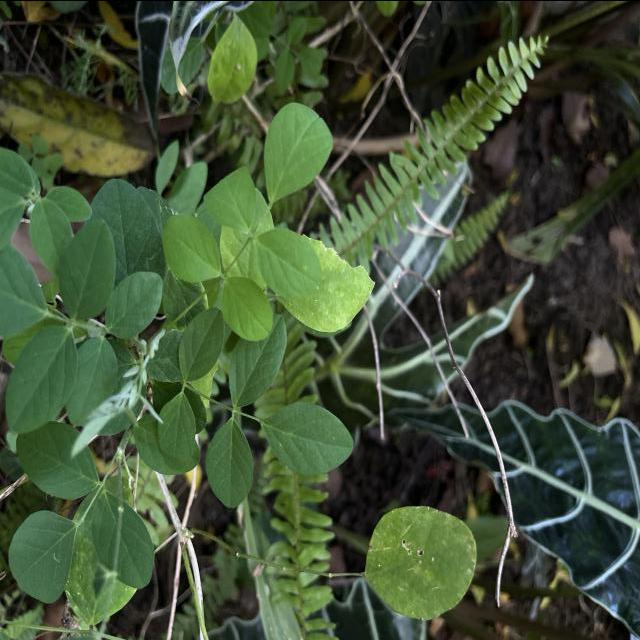Clitoria ternatea: (4, 324, 80, 434), (259, 398, 355, 478), (15, 418, 100, 500), (8, 508, 78, 604), (59, 216, 118, 320), (204, 417, 254, 509), (160, 212, 222, 282), (177, 304, 225, 382), (220, 274, 274, 342), (156, 390, 197, 470)
